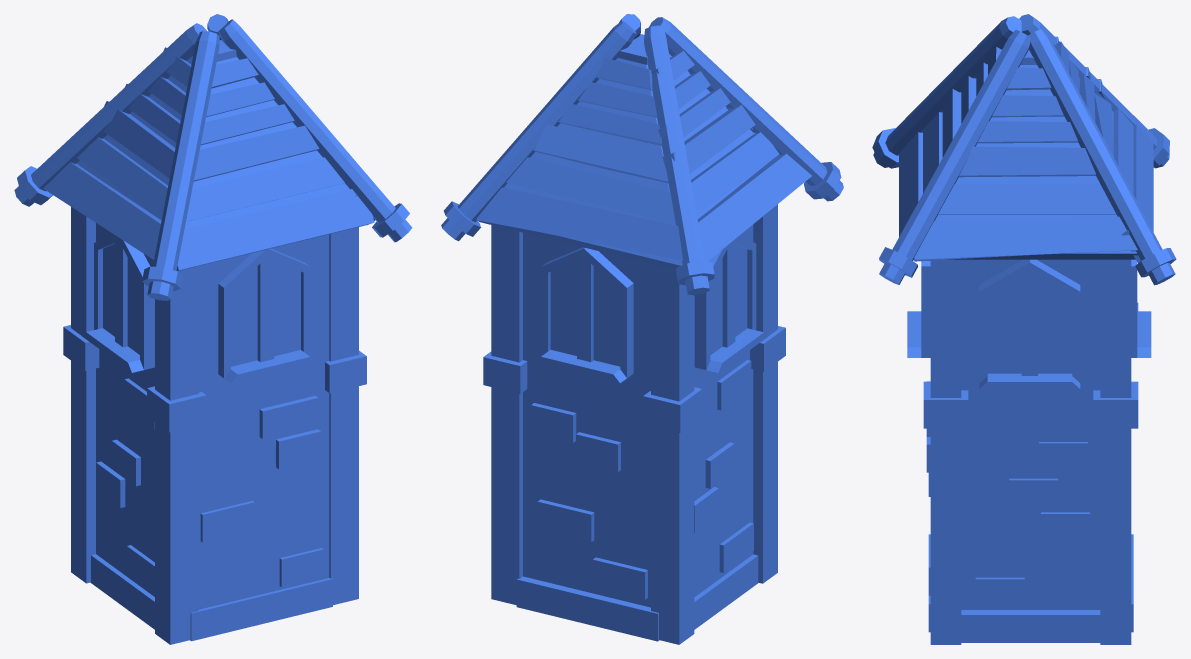
File: Tower_Stone_Variant4.fbx
3 renders of one model, left to right at view 1: azimuth 30°, elevation 25°; view 2: azimuth 150°, elevation 25°; view 3: azimuth 270°, elevation 25°, orthographic.
Parts seen in each view (by area): view 1: Tower_Stone_Variant4; view 2: Tower_Stone_Variant4; view 3: Tower_Stone_Variant4.
Boxes of the visible parts, x1,y1,x2,y2 form: Tower_Stone_Variant4: (14, 14, 412, 644); Tower_Stone_Variant4: (441, 14, 843, 644); Tower_Stone_Variant4: (872, 14, 1176, 644).
Bounding box in the file's own units: 311 × 633 × 304.
